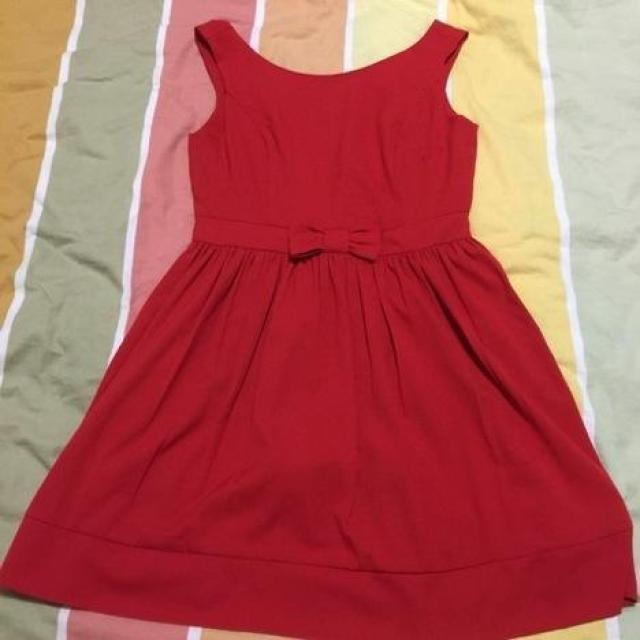short-sleeve-dress: (114, 14, 616, 611)
